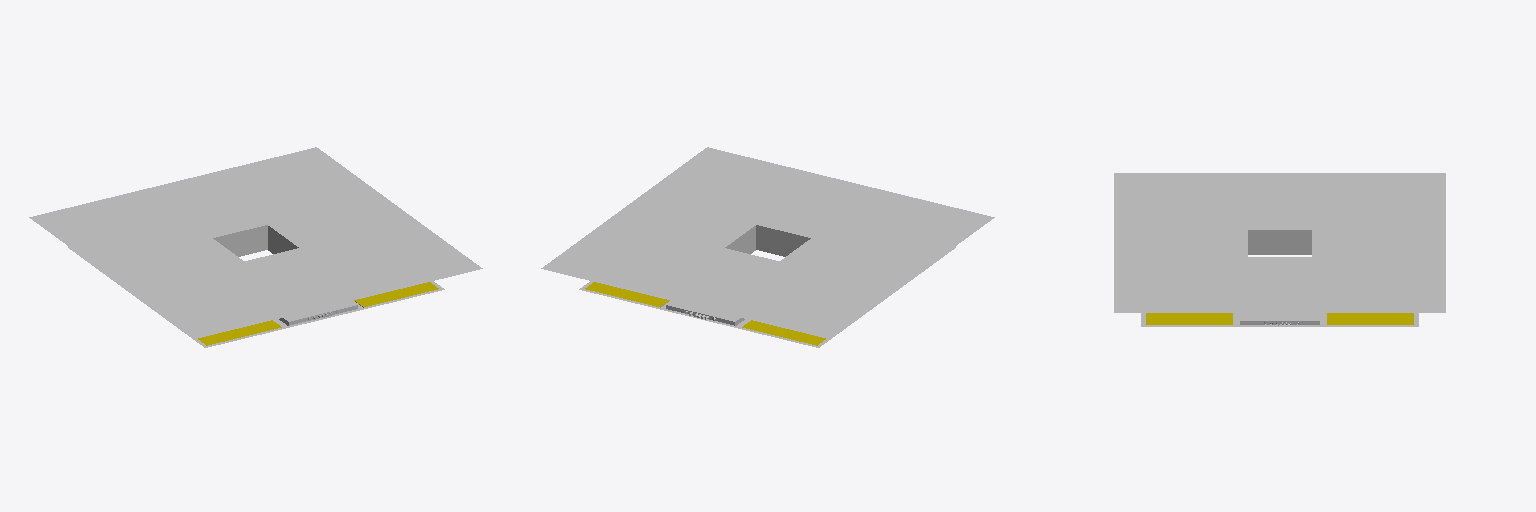
File: WallNew_mid.obj
3 renders of one model, left to right at view 1: azimuth 30°, elevation 25°; view 2: azimuth 150°, elevation 25°; view 3: azimuth 270°, elevation 25°, orthographic.
Parts seen in each view (by area): view 1: Wall_mid_Cube_Cube.004, Tiles_Cube_Cube.003; view 2: Wall_mid_Cube_Cube.004, Tiles_Cube_Cube.003; view 3: Wall_mid_Cube_Cube.004, Tiles_Cube_Cube.003.
Part boxes in pixels (x1,y1,x2,y2): Wall_mid_Cube_Cube.004: (29,147,482,347); Tiles_Cube_Cube.003: (198,282,438,345); Wall_mid_Cube_Cube.004: (541,147,994,347); Tiles_Cube_Cube.003: (585,282,825,345); Wall_mid_Cube_Cube.004: (1114,173,1445,326); Tiles_Cube_Cube.003: (1146,313,1413,324).
Size of the model in its own units: 2.4 by 0.205 by 2.4.